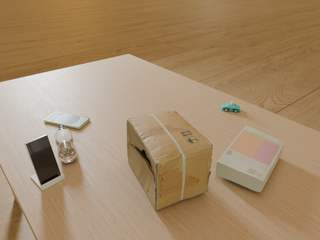book: (216, 125, 284, 192)
bottle: (55, 125, 77, 163)
box: (127, 110, 213, 210)
phone: (25, 135, 61, 185), (44, 112, 90, 129)
toy_car: (222, 101, 240, 112)
